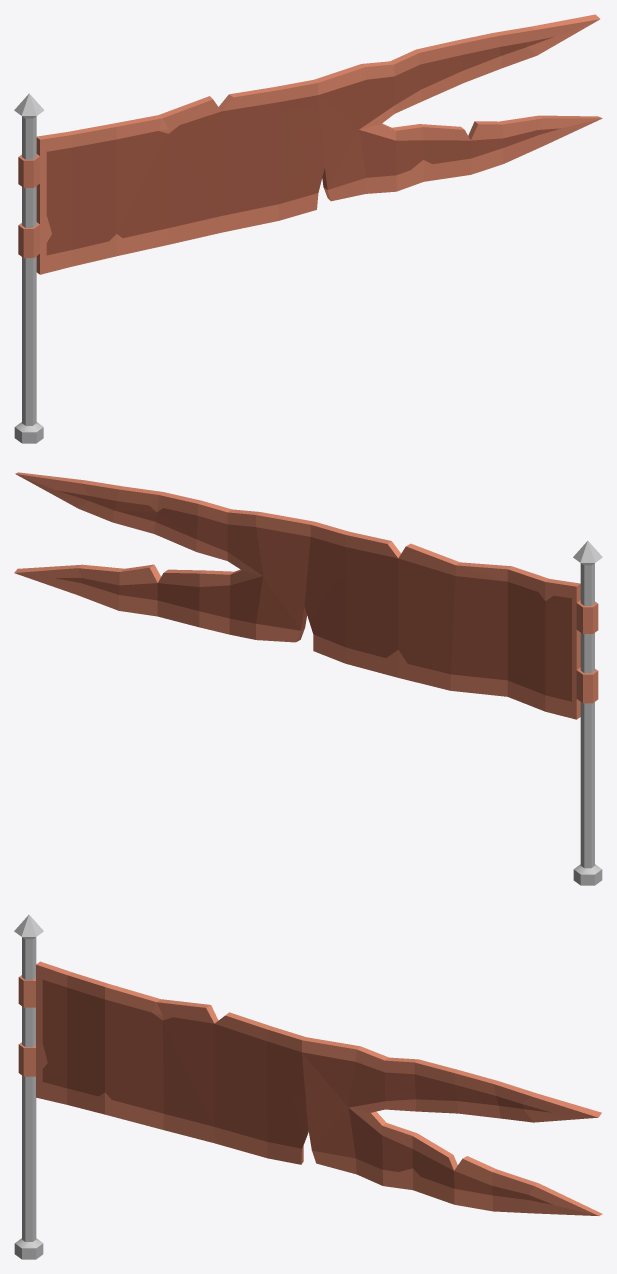
Rendered from SM_Prop_Flag_06.fbx.
3 renders of one model, top to bottom at view 1: azimuth 30°, elevation 25°; view 2: azimuth 150°, elevation 25°; view 3: azimuth 330°, elevation 25°, orthographic.
Visible parts, largest first — view 1: SM_Prop_Flag_06_Flag, SM_Prop_Flag_06; view 2: SM_Prop_Flag_06_Flag, SM_Prop_Flag_06; view 3: SM_Prop_Flag_06_Flag, SM_Prop_Flag_06.
Part boxes in pixels (box(x1,y1,x2,y2)): SM_Prop_Flag_06_Flag: box(18, 14, 602, 274); SM_Prop_Flag_06: box(14, 93, 44, 443); SM_Prop_Flag_06_Flag: box(14, 472, 598, 719); SM_Prop_Flag_06: box(573, 541, 602, 885); SM_Prop_Flag_06_Flag: box(18, 961, 602, 1215); SM_Prop_Flag_06: box(14, 915, 43, 1259).
Bounding box in the file's own units: 225 × 126 × 10.17.
